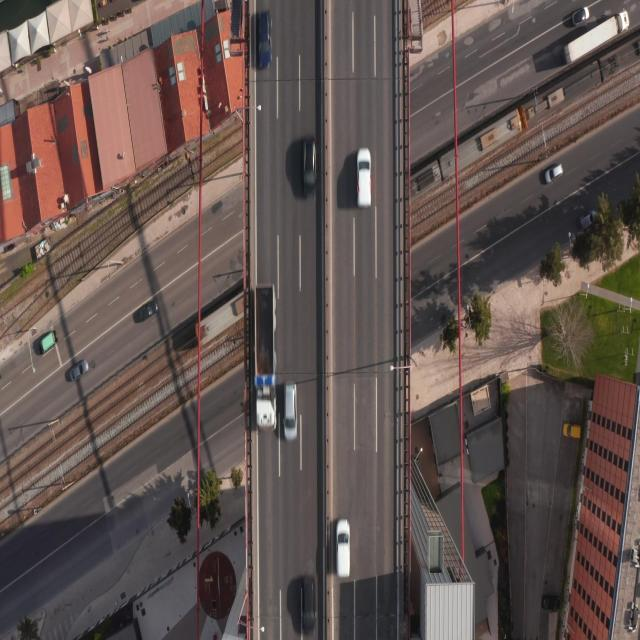Car: (281, 380, 299, 444), (301, 134, 318, 198), (301, 572, 318, 636), (256, 8, 272, 71), (69, 358, 89, 383), (571, 2, 590, 28), (138, 298, 158, 322), (579, 208, 598, 232), (543, 164, 563, 186)
Truck: (562, 7, 630, 67), (253, 281, 278, 433)
Van: (334, 517, 352, 581), (355, 148, 373, 209), (40, 329, 58, 355)
